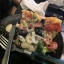pizza: (18, 12, 60, 35)
